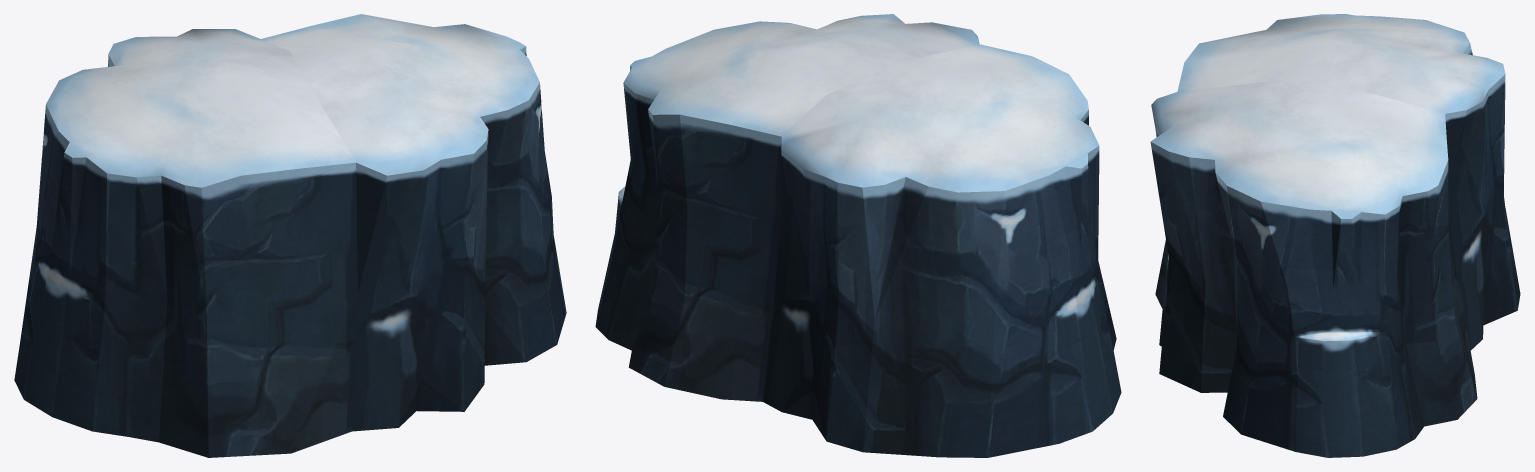
Rendered from sldmd_shitou_01_03.fbx.
3 views of the same model, side by side, from view 1: azimuth 30°, elevation 25°; view 2: azimuth 150°, elevation 25°; view 3: azimuth 270°, elevation 25° (orthographic). The views are drawn at different scales.
Visible parts, largest first — view 1: sldmd_shitou_01_03; view 2: sldmd_shitou_01_03; view 3: sldmd_shitou_01_03.
Boxes of the visible parts, x1=… form: sldmd_shitou_01_03: x1=14, y1=14, x2=566, y2=457; sldmd_shitou_01_03: x1=595, y1=14, x2=1121, y2=457; sldmd_shitou_01_03: x1=1150, y1=14, x2=1520, y2=457.
Bounding box in the file's own units: 1558 × 877 × 1081.
